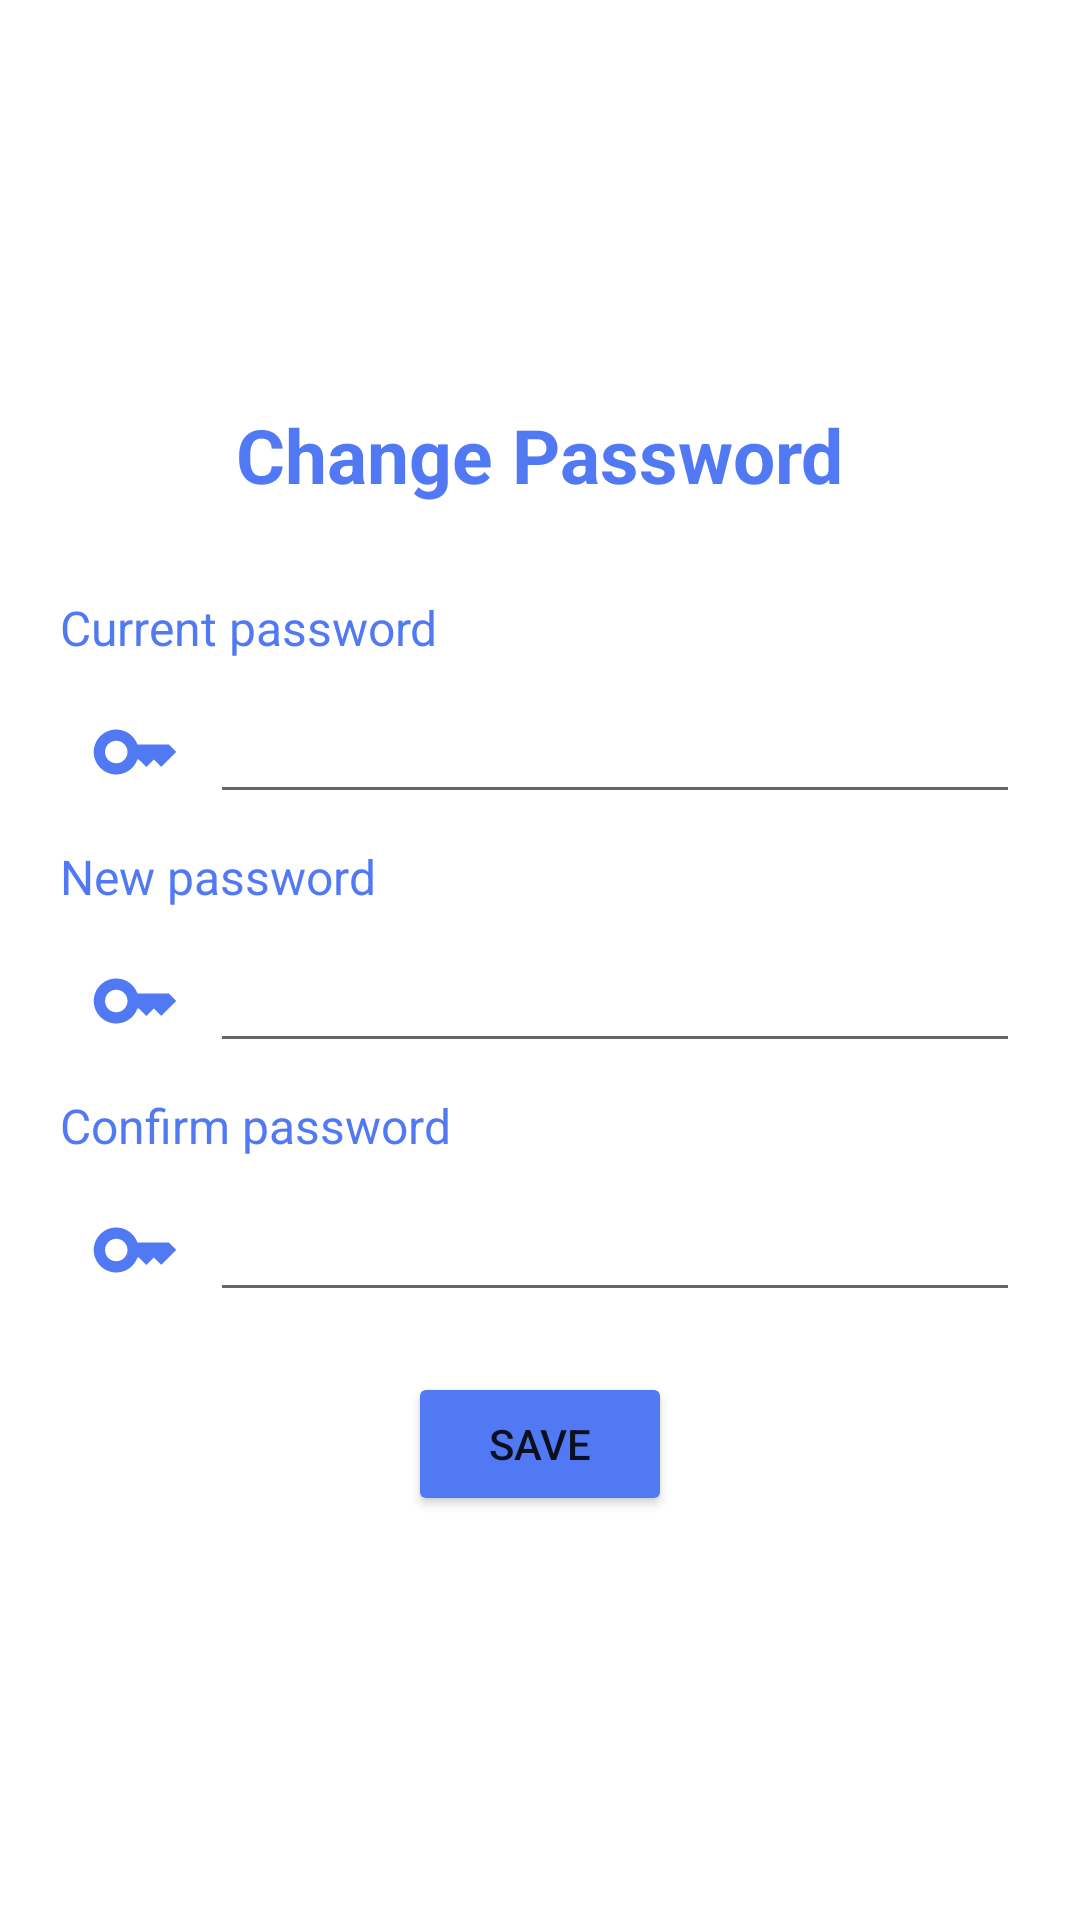

Icon click points for this 1080 x 1920 phone screenshot, format [x,y]:
key: [134,752], [134,1001], [134,1250]
